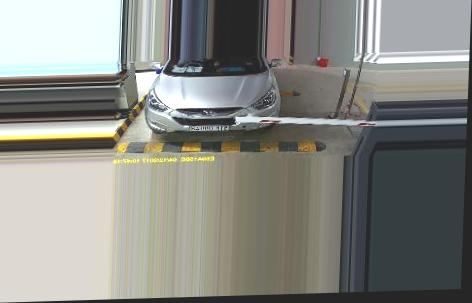License_Plate: (184, 121, 230, 134)
